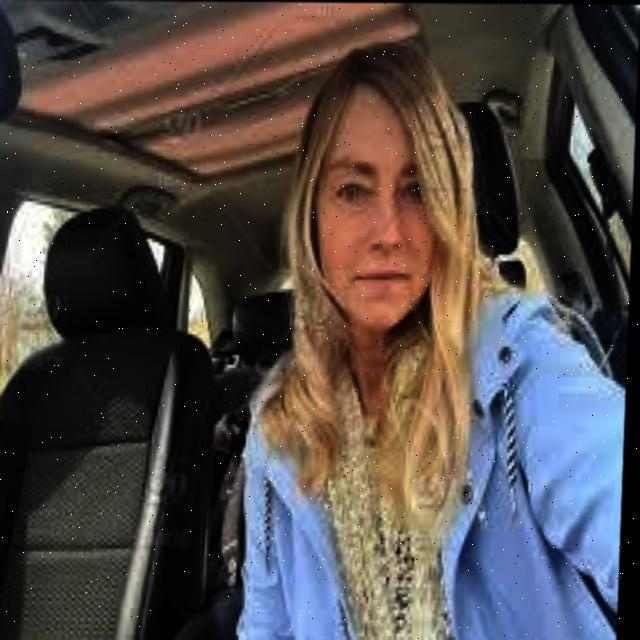noSeatbelt: (236, 288, 632, 640)
